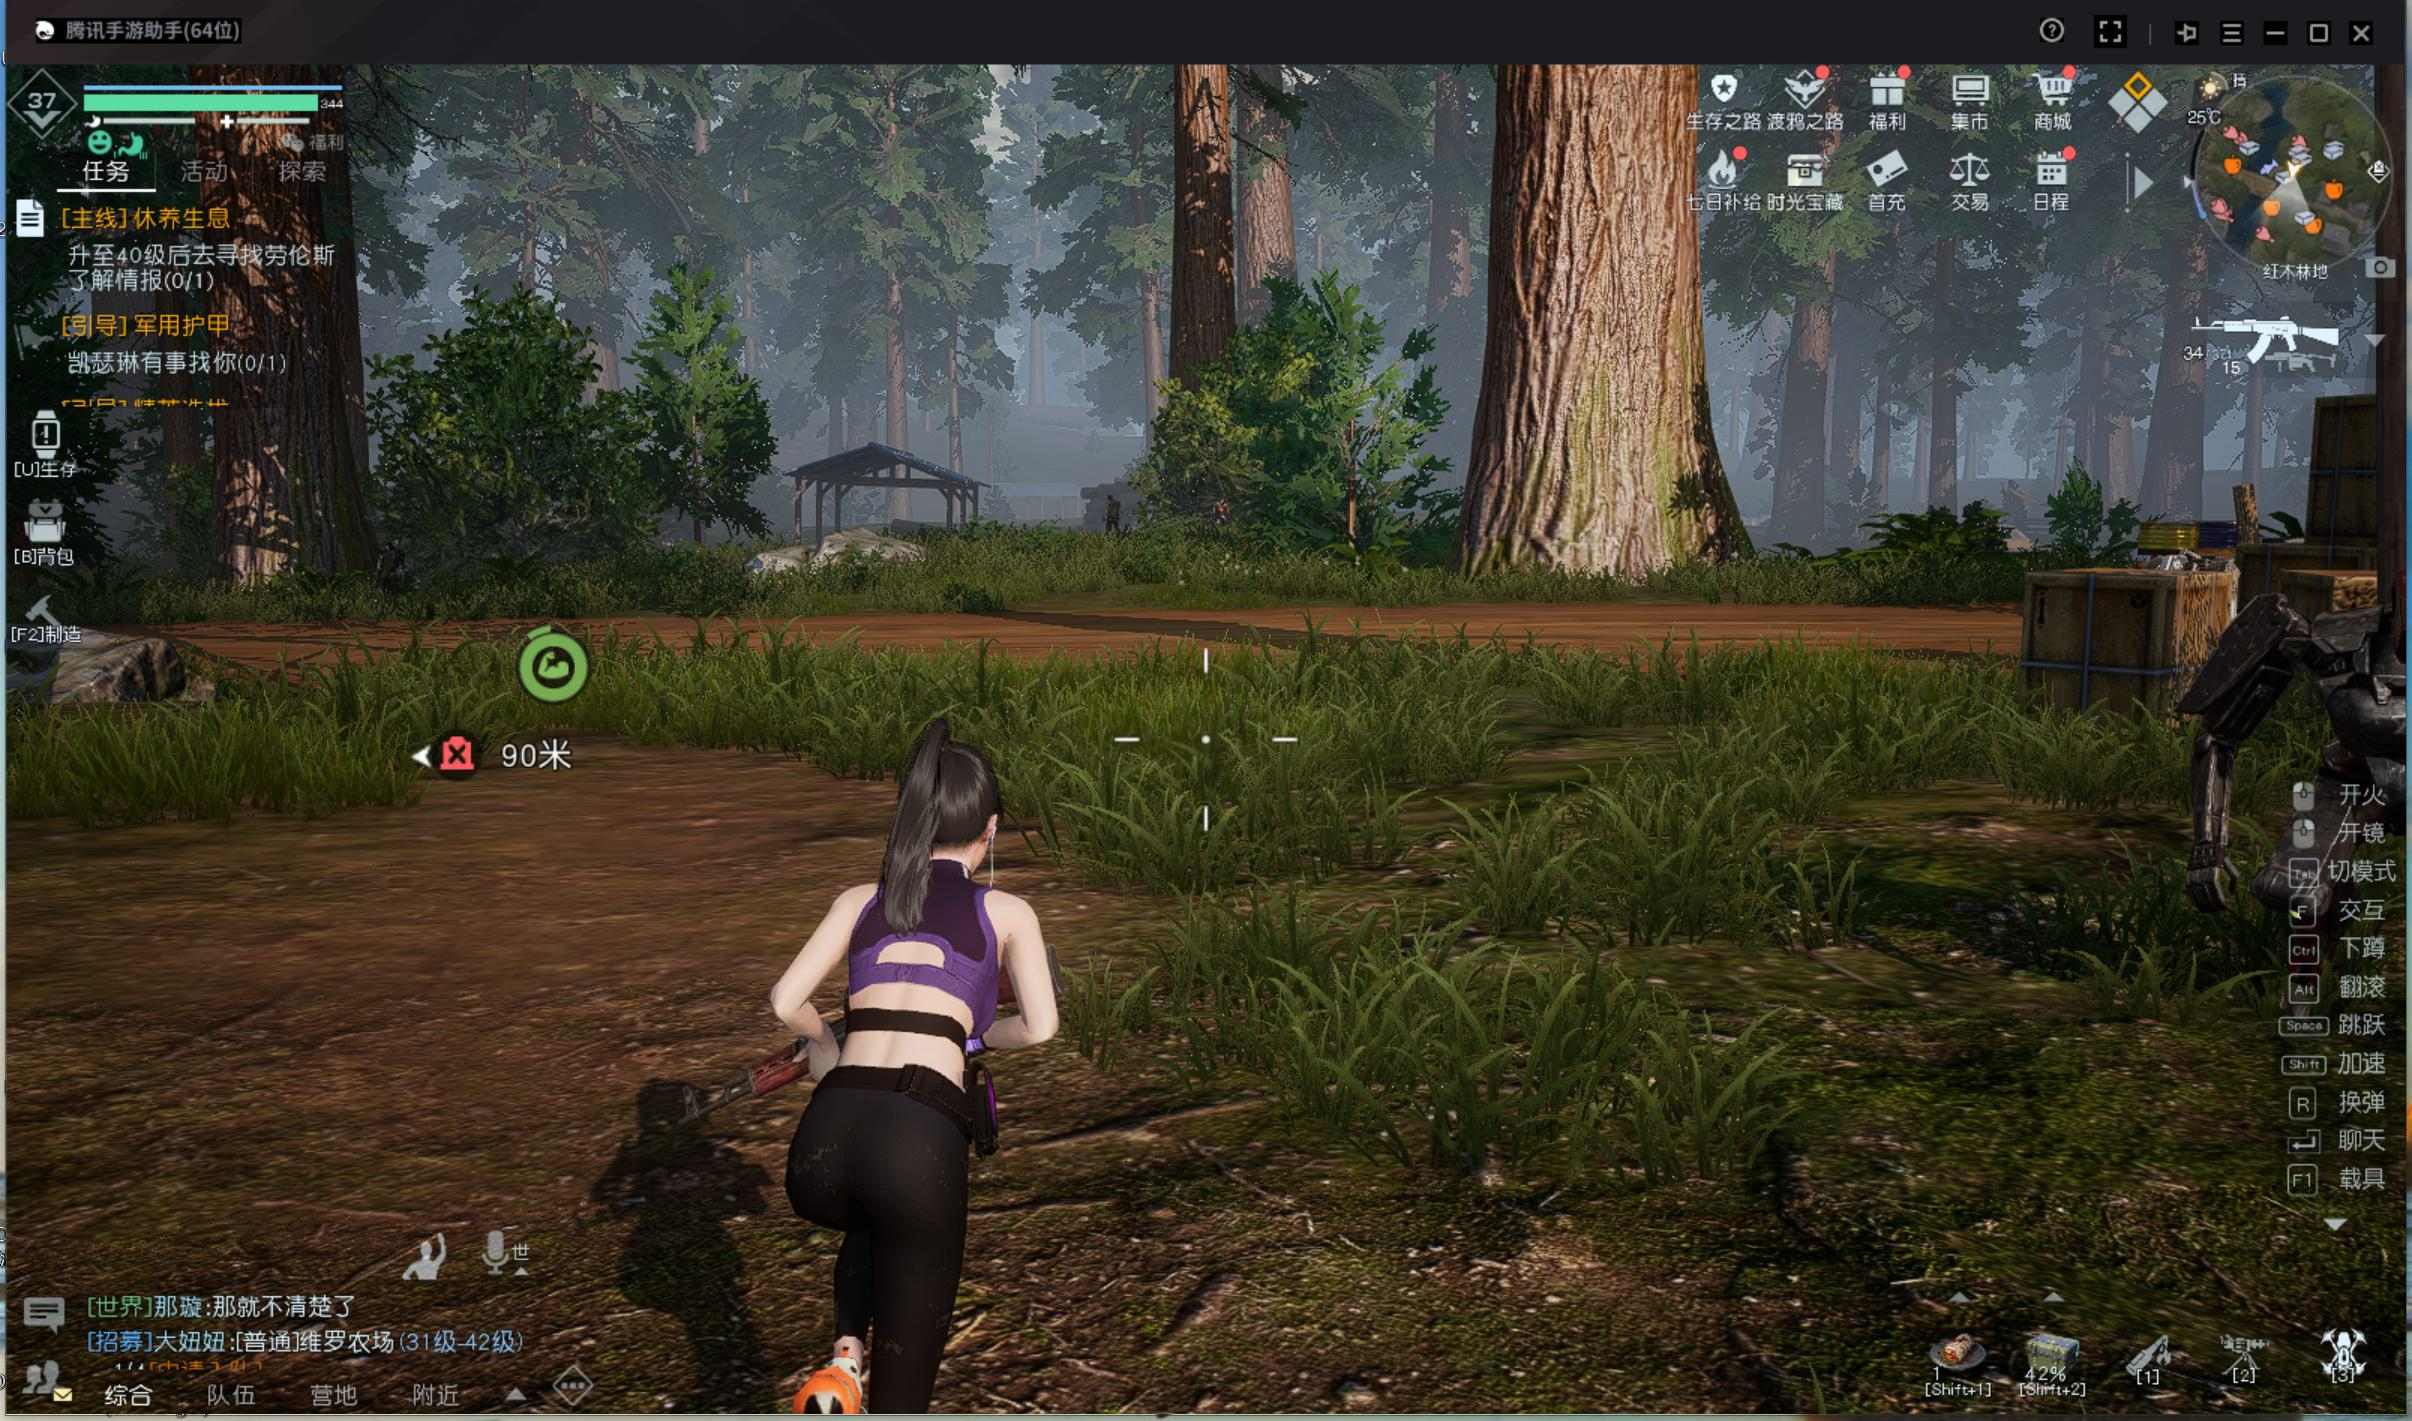tree: (1465, 137, 1735, 631), (1155, 144, 1262, 540), (2138, 254, 2204, 548), (1774, 298, 1827, 568)
